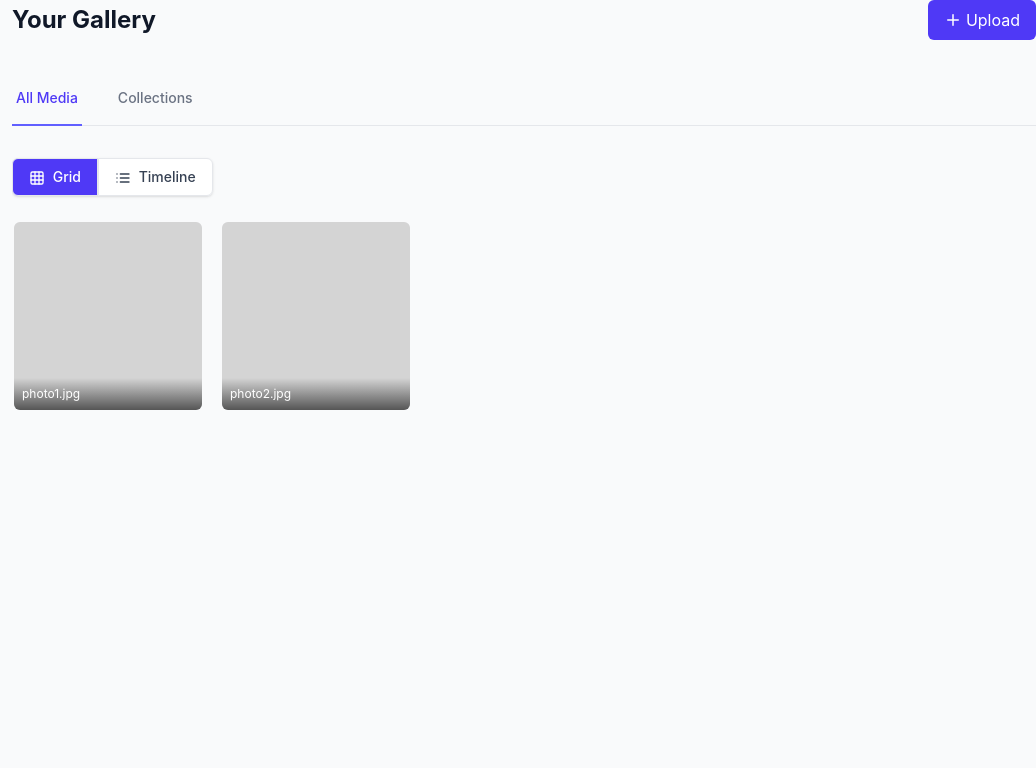
GalleryPage › sorts media by date in timeline view
Step 1. Click the button "Timeline" → (155, 177), box [98,158,213,196]
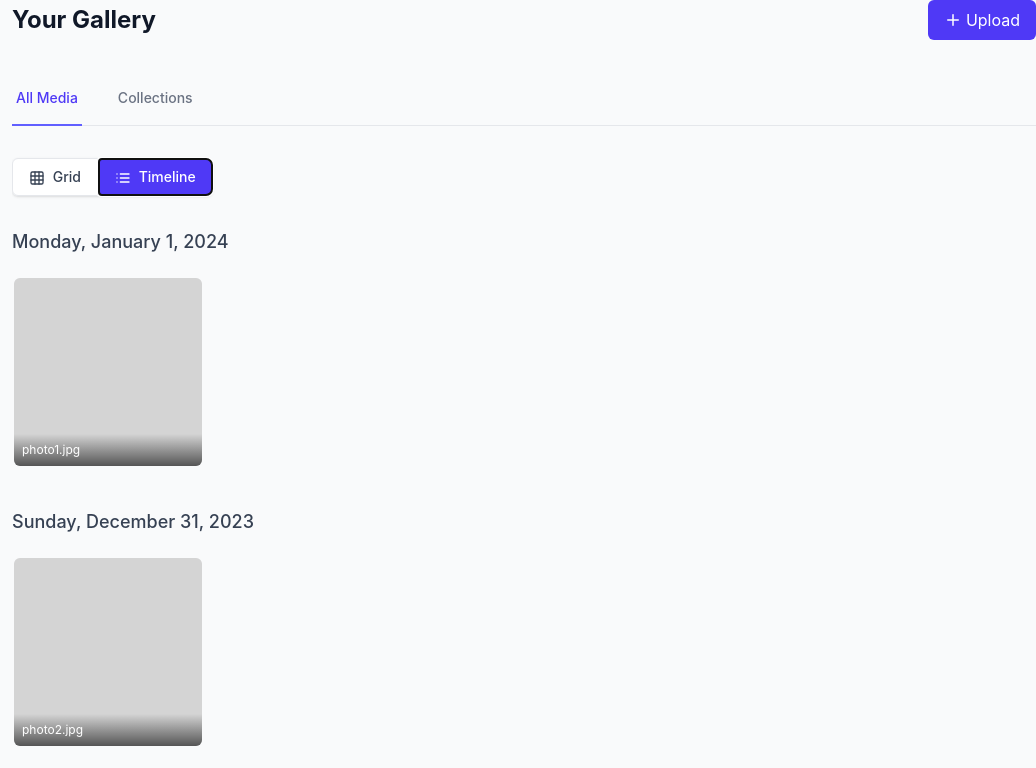
Expected: the heading "Monday, January 1, 2024" is shown, [12,220,1035,264]
